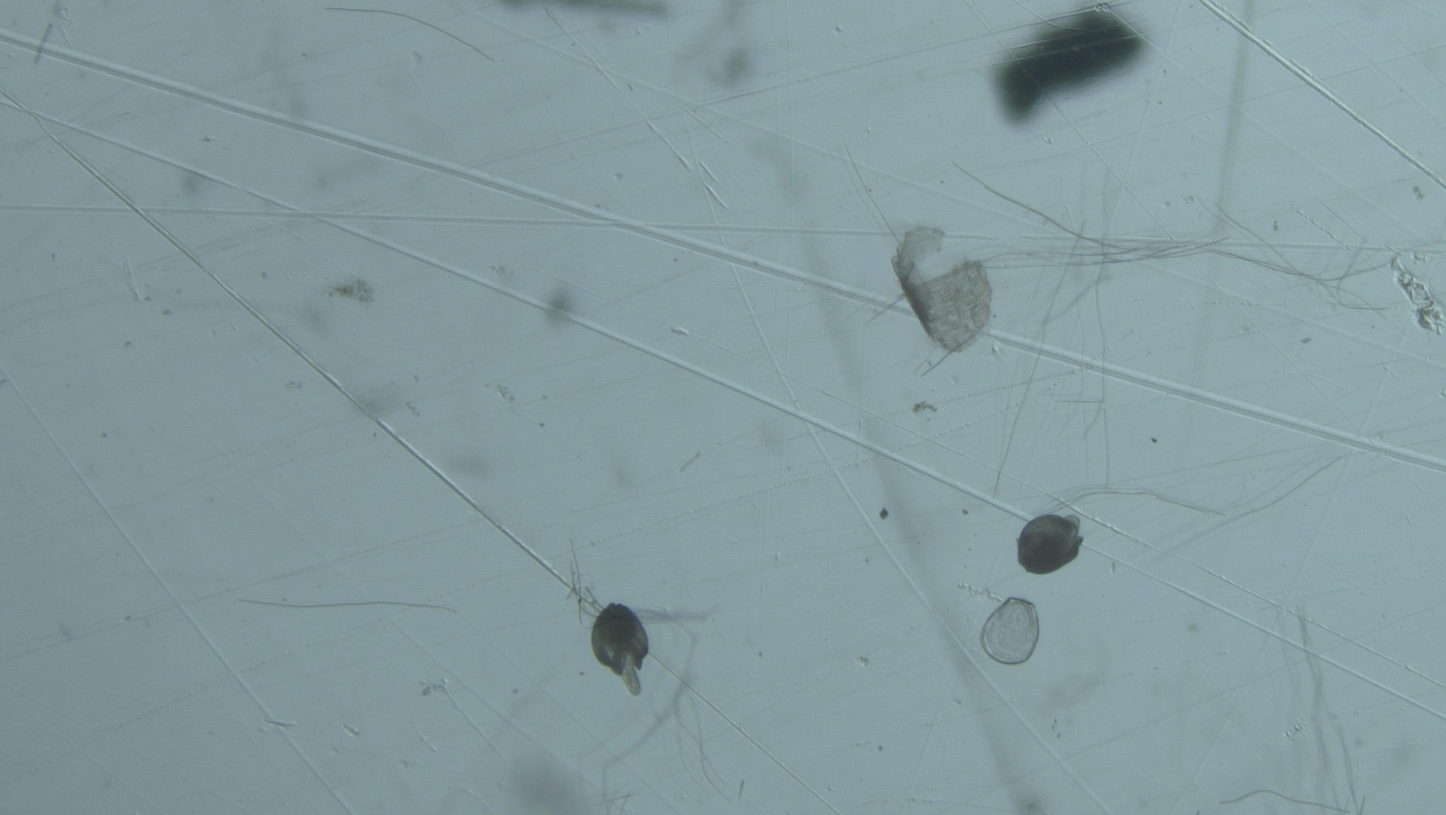dead: (980, 597, 1040, 665)
live: (591, 604, 649, 696), (1018, 514, 1084, 575)
